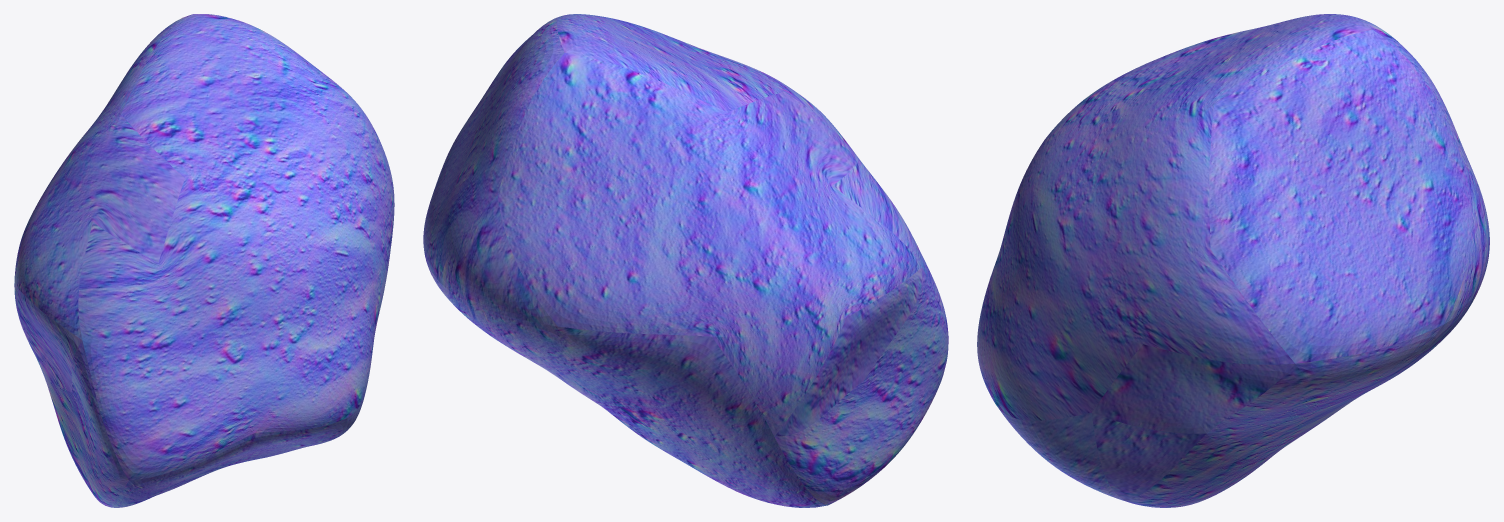
The model's file is mediumasteroid3_LOD0.fbx.
The picture shows the model from 3 angles, left to right: view 1: azimuth 30°, elevation 25°; view 2: azimuth 150°, elevation 25°; view 3: azimuth 270°, elevation 25°; orthographic projection. The views are drawn at different scales.
Visible parts, largest first — view 1: Icosphere; view 2: Icosphere; view 3: Icosphere.
Part boxes in pixels (x1,y1,x2,y2): Icosphere: (14,14,394,507); Icosphere: (423,14,948,507); Icosphere: (977,14,1489,507).
Size of the model in its own units: 242 by 262 by 237.
